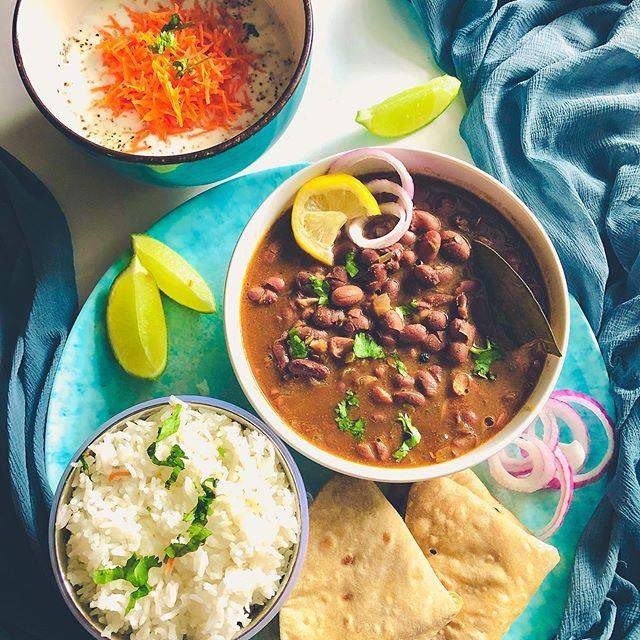Lobia Curry: (258, 212, 512, 434)
Roti: (282, 466, 458, 640)
White Rice: (45, 403, 304, 640)
